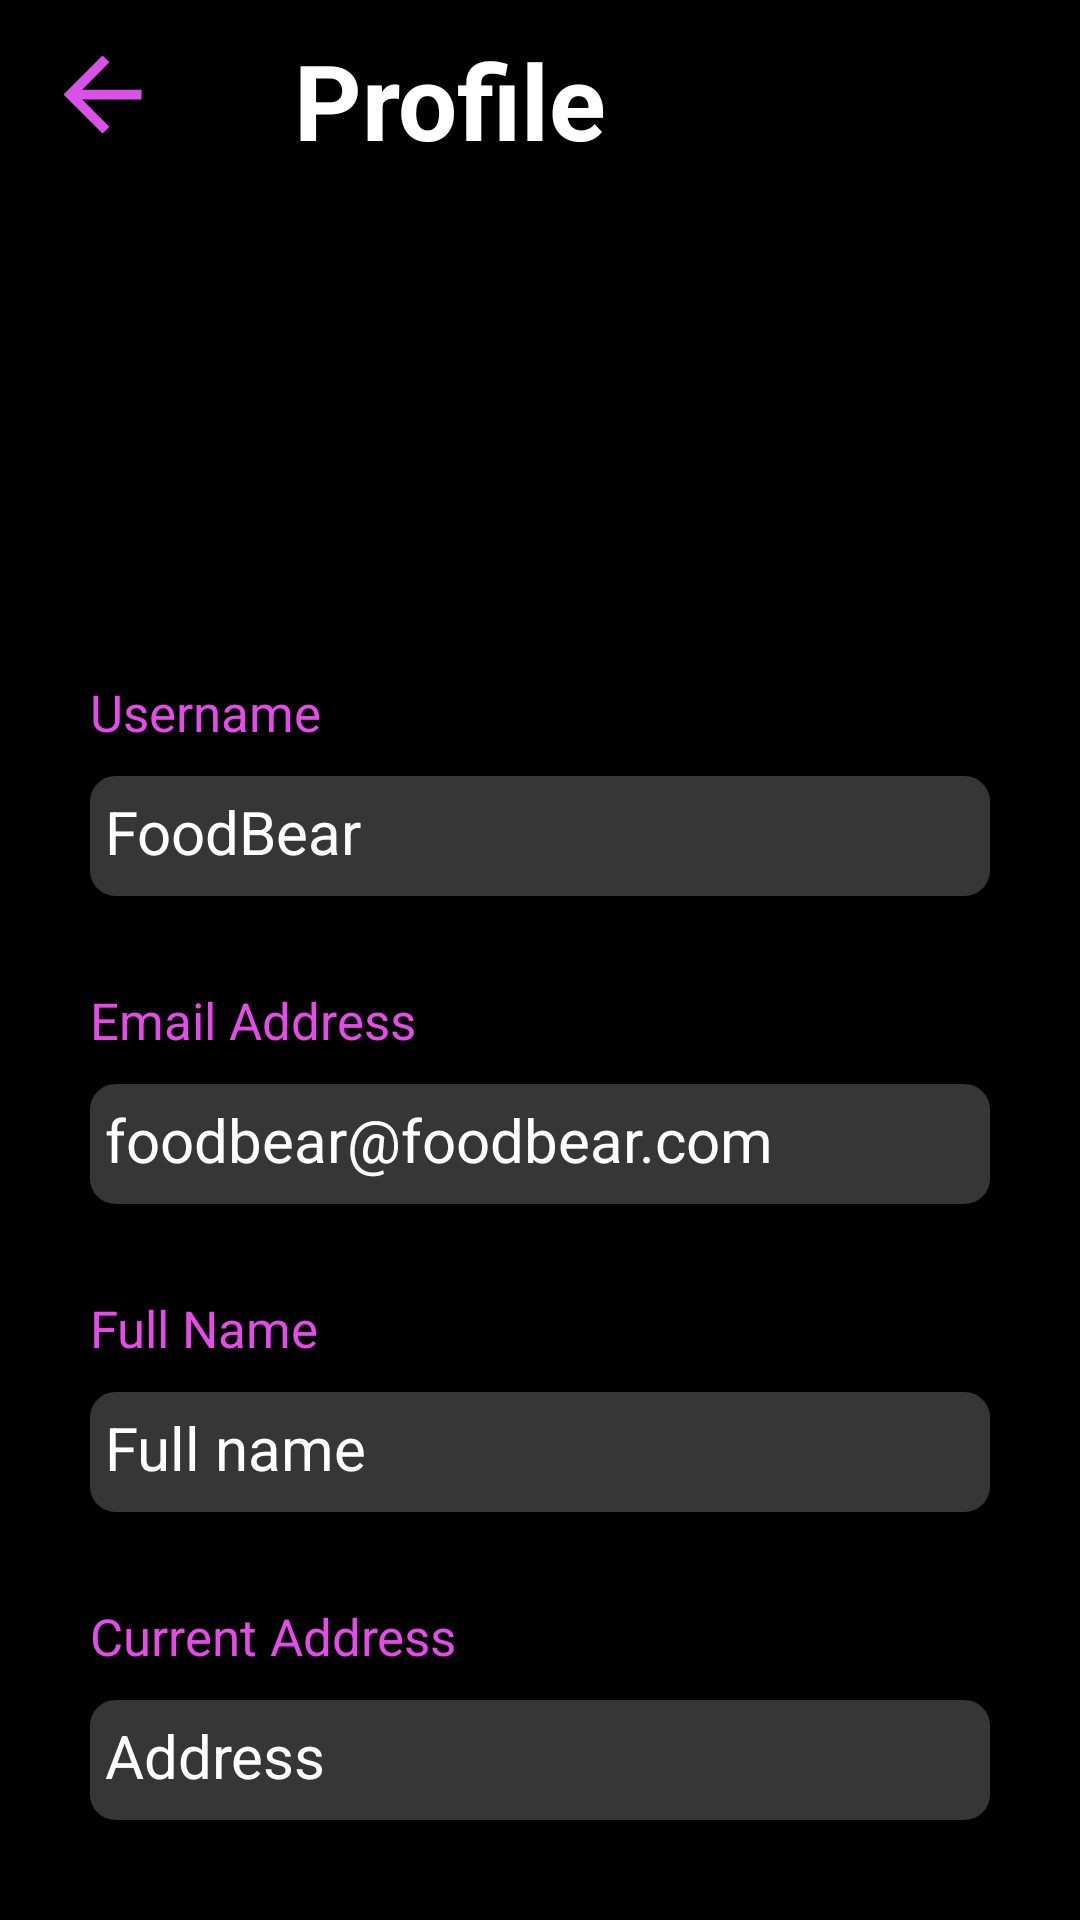

Icons on this 1080 x 1920 Android screen, each with the point to tap as (x,y):
back: (102,94)
